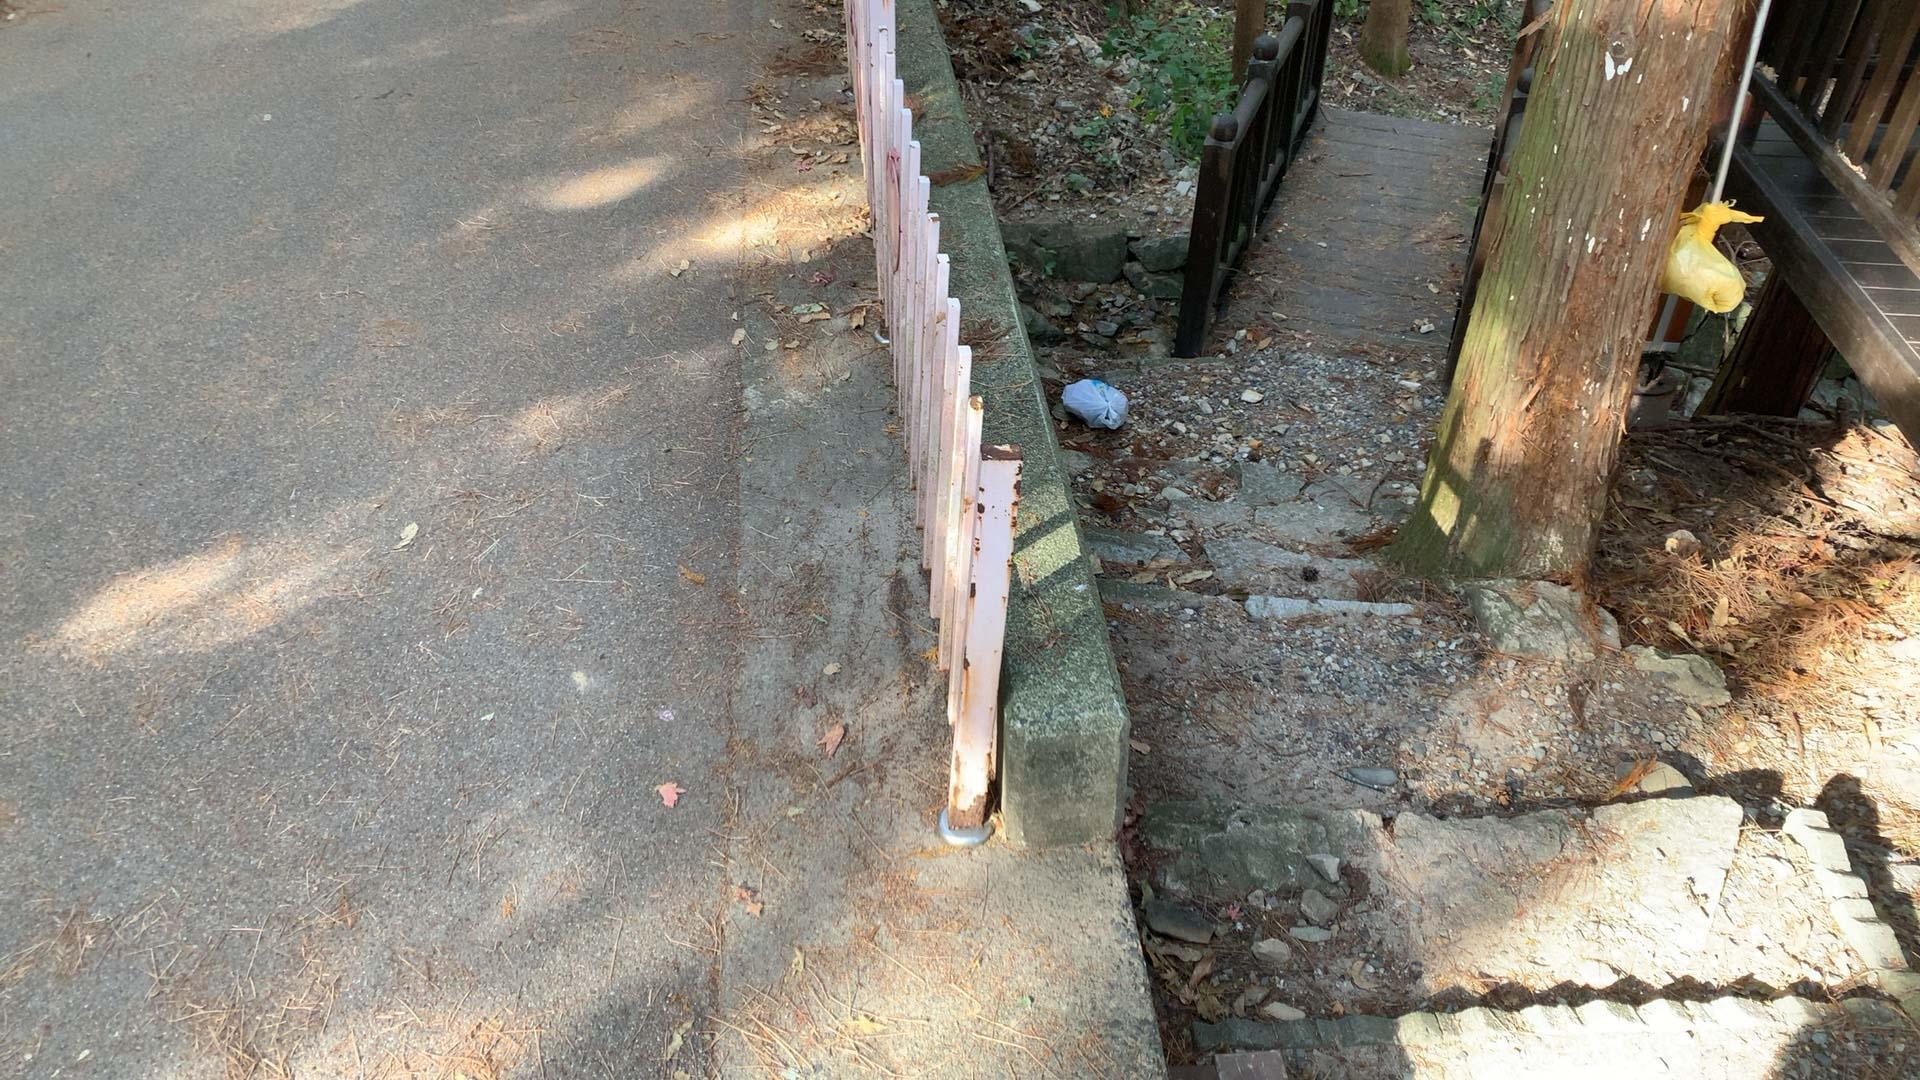white_bag: (1056, 371, 1137, 436)
